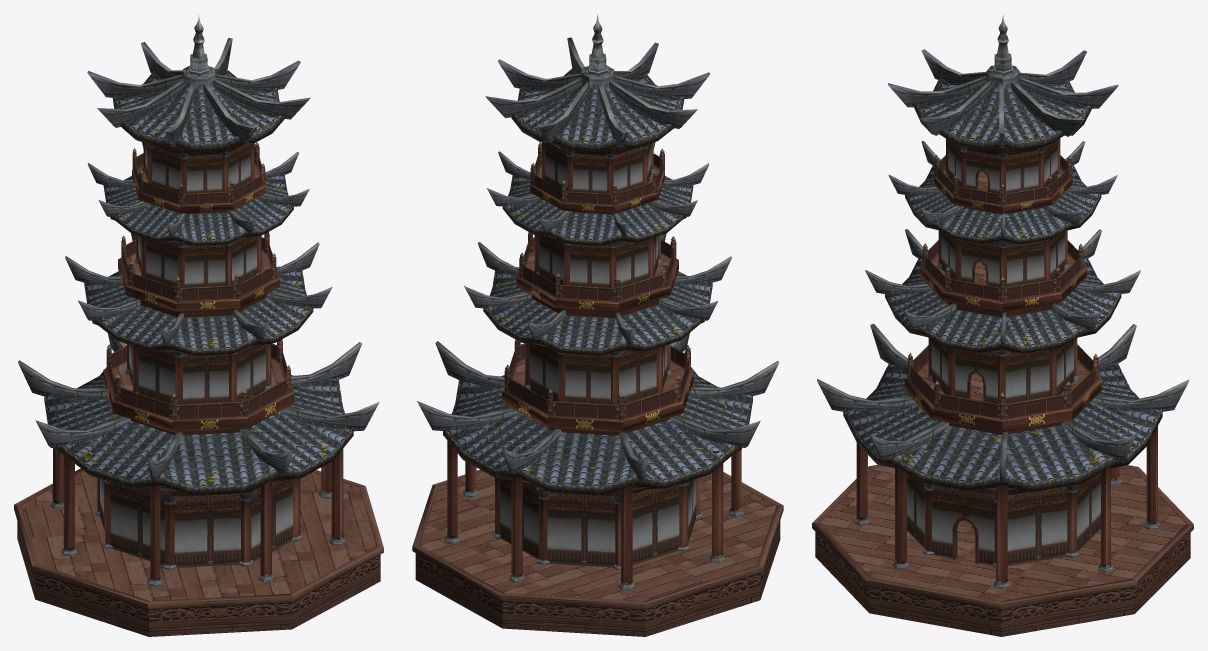
File: S2_Build_XSC021c.FBX
The picture shows the model from 3 angles, left to right: view 1: azimuth 30°, elevation 25°; view 2: azimuth 150°, elevation 25°; view 3: azimuth 270°, elevation 25°; orthographic projection.
Visible parts, largest first — view 1: S2_Build_XSC021c; view 2: S2_Build_XSC021c; view 3: S2_Build_XSC021c.
Part boxes in pixels (bbox=[...]): S2_Build_XSC021c: bbox=[14, 15, 383, 636]; S2_Build_XSC021c: bbox=[412, 14, 783, 636]; S2_Build_XSC021c: bbox=[812, 14, 1193, 636].
Bounding box in the file's own units: 1766 × 2774 × 1766.
